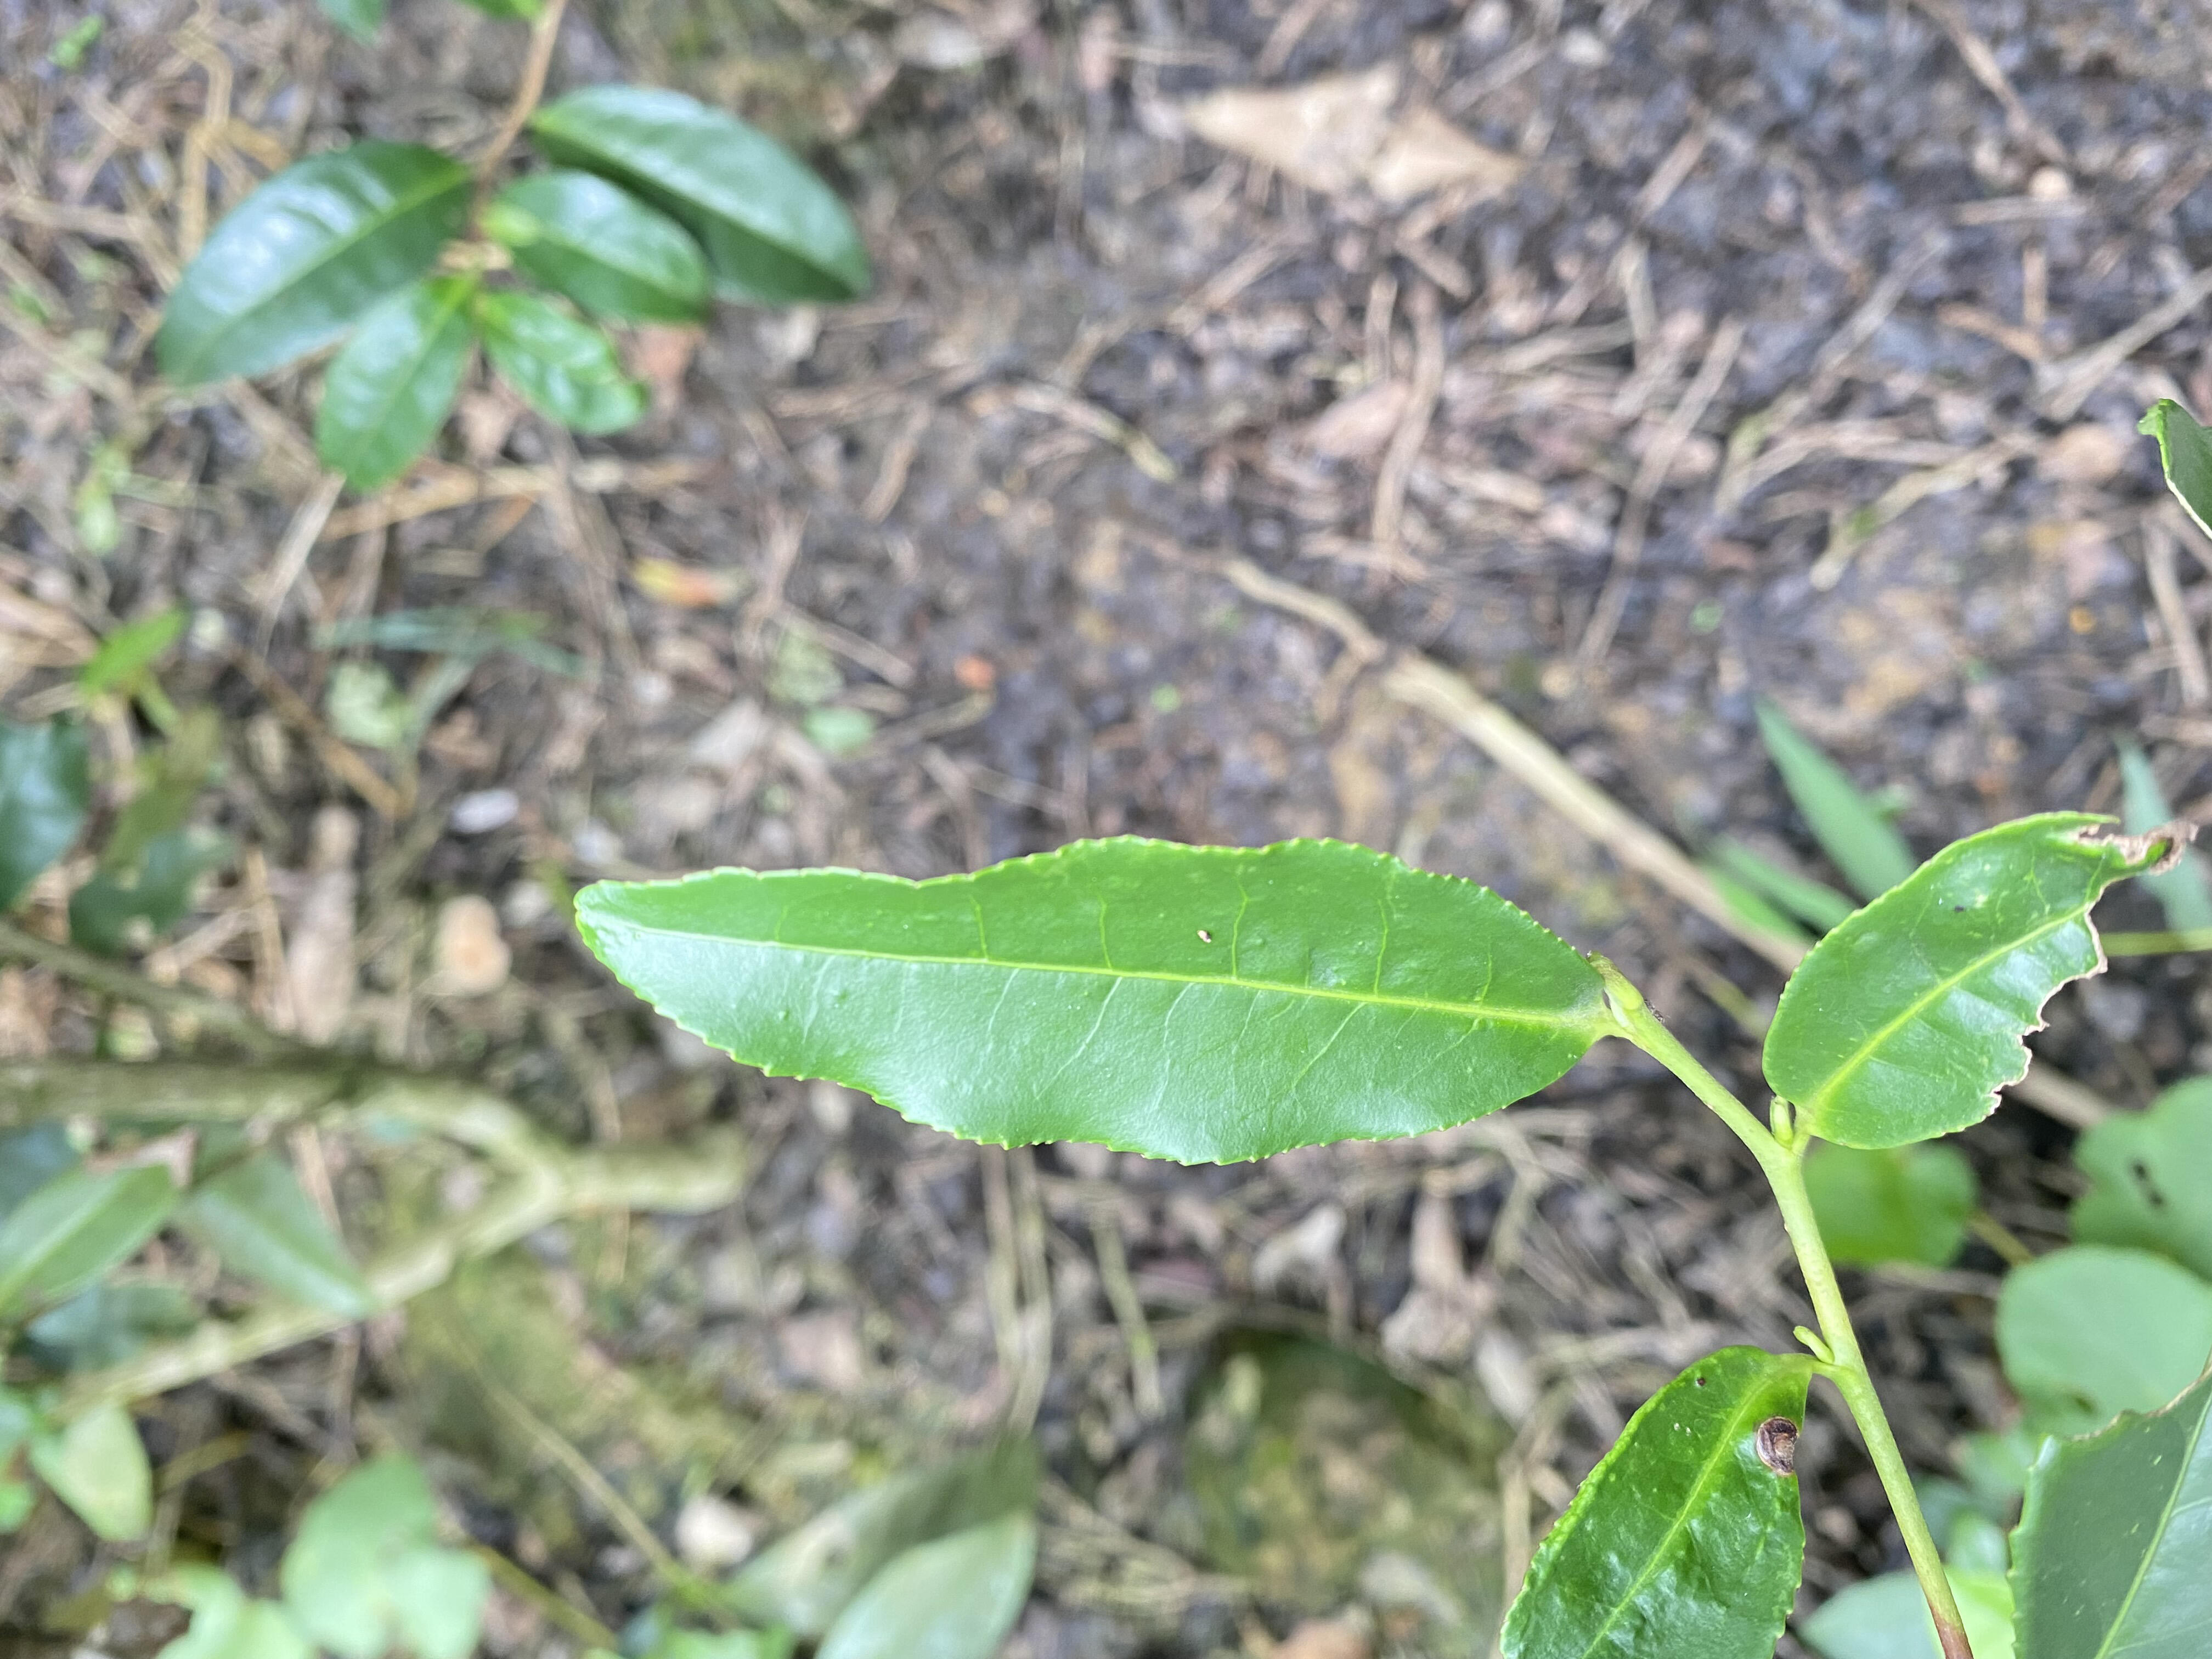chihuo_high: (1764, 810, 2172, 1154)
healthy: (571, 833, 1613, 1169)
tanju_low: (1496, 1345, 1820, 1657)
